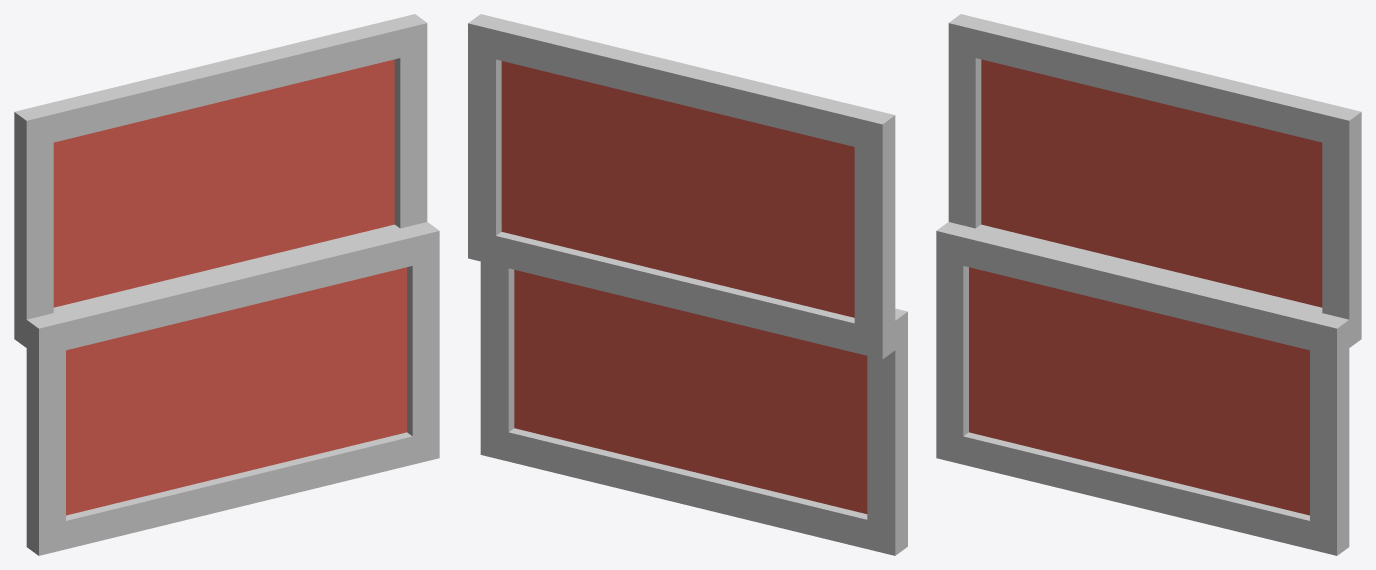
Rendered from Mesh_WindowSmall_04.fbx.
3 renders of one model, left to right at view 1: azimuth 30°, elevation 25°; view 2: azimuth 150°, elevation 25°; view 3: azimuth 330°, elevation 25°, orthographic. The views are drawn at different scales.
Parts seen in each view (by area): view 1: Mesh_WindowSmall_04; view 2: Mesh_WindowSmall_04; view 3: Mesh_WindowSmall_04.
Part boxes in pixels (left/top/right/bottom): Mesh_WindowSmall_04: left=14, top=14, right=439, bottom=555; Mesh_WindowSmall_04: left=468, top=14, right=907, bottom=555; Mesh_WindowSmall_04: left=936, top=14, right=1361, bottom=555.
Bounding box in the file's own units: 0.8383 × 0.8517 × 0.089.
